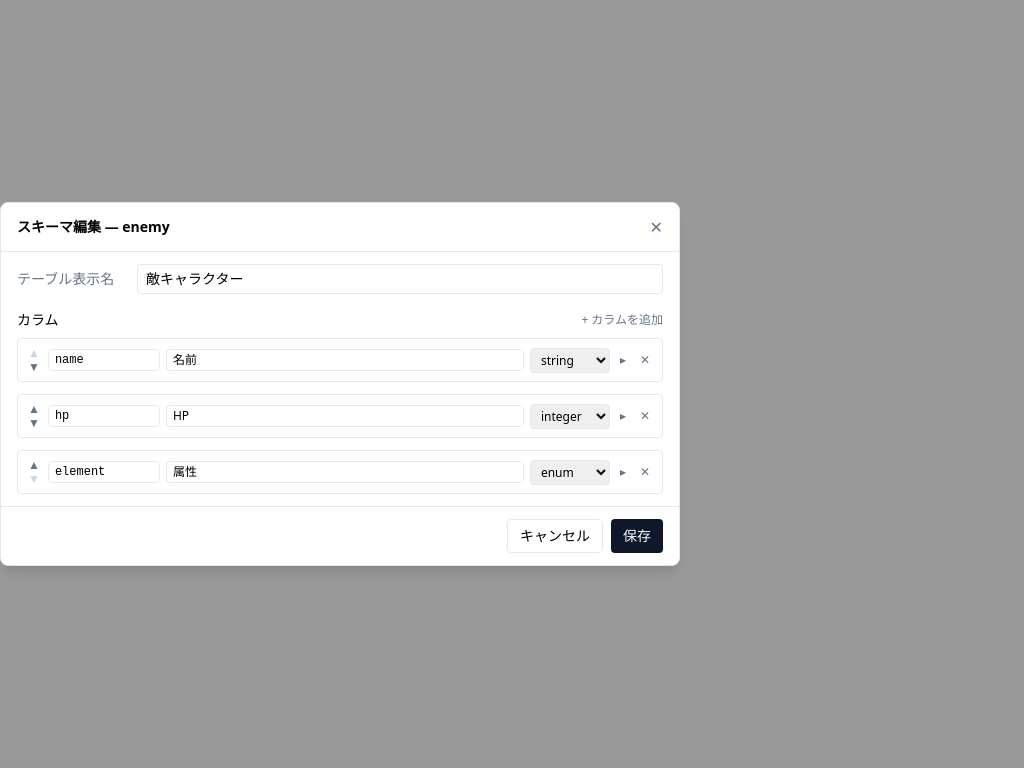
SchemaEditorDialog › 保存ボタンの活性制御 › テーブル表示名を空にすると保存ボタンが無効になる
Clear the field showing "敵キャラクター": (400, 279) [137,264,663,294]
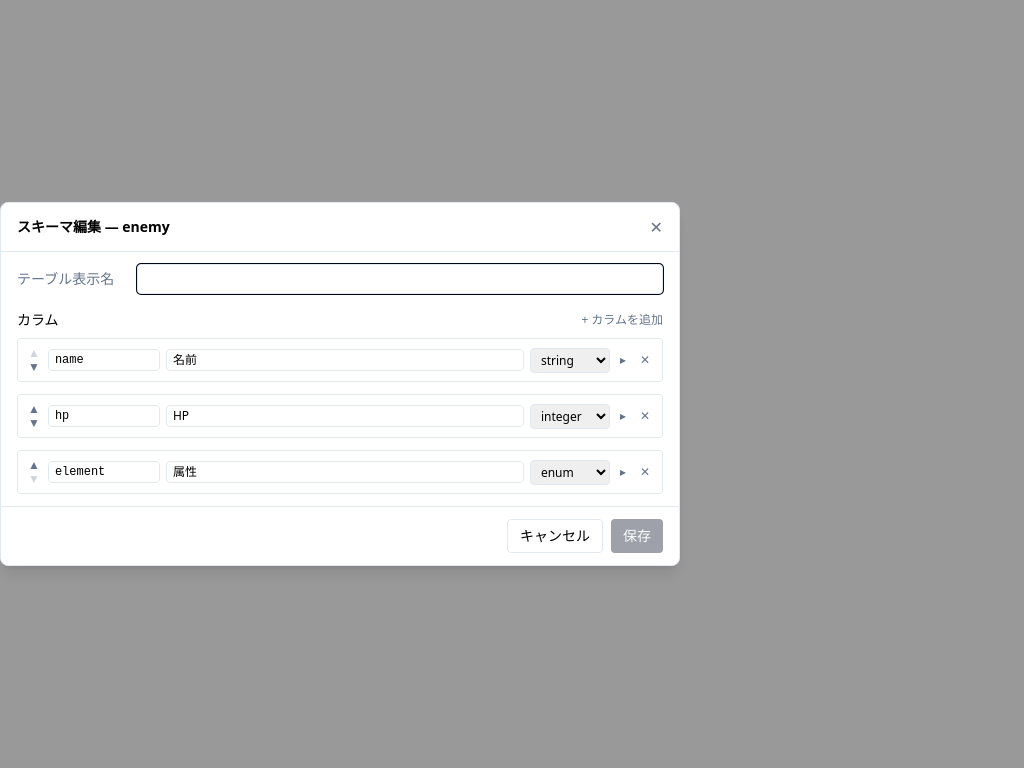
Expected: the button "保存" is disabled, [611,519,663,553]
